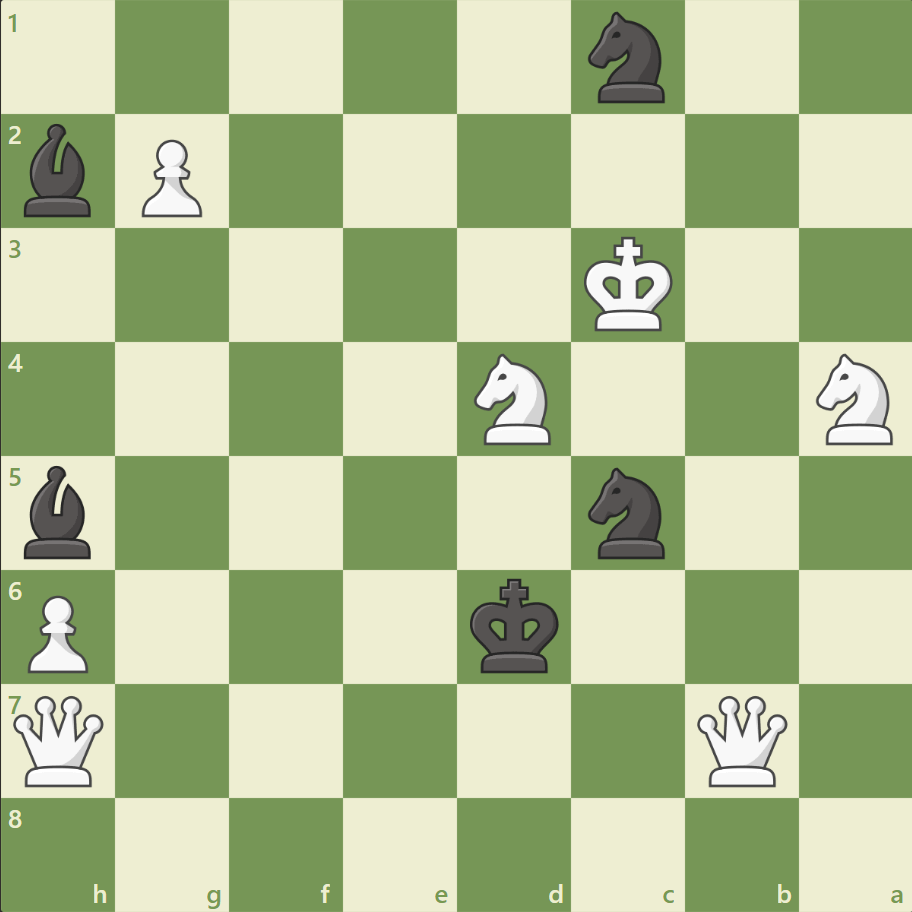K: (579, 231, 679, 339)
N: (806, 348, 903, 450), (465, 348, 562, 450)
P: (20, 586, 95, 677), (133, 132, 208, 223)
Q: (691, 690, 790, 789), (10, 690, 109, 789)
b: (17, 460, 101, 563), (17, 120, 101, 222)
k: (465, 571, 565, 679)
n: (579, 461, 676, 564), (579, 7, 676, 110)
